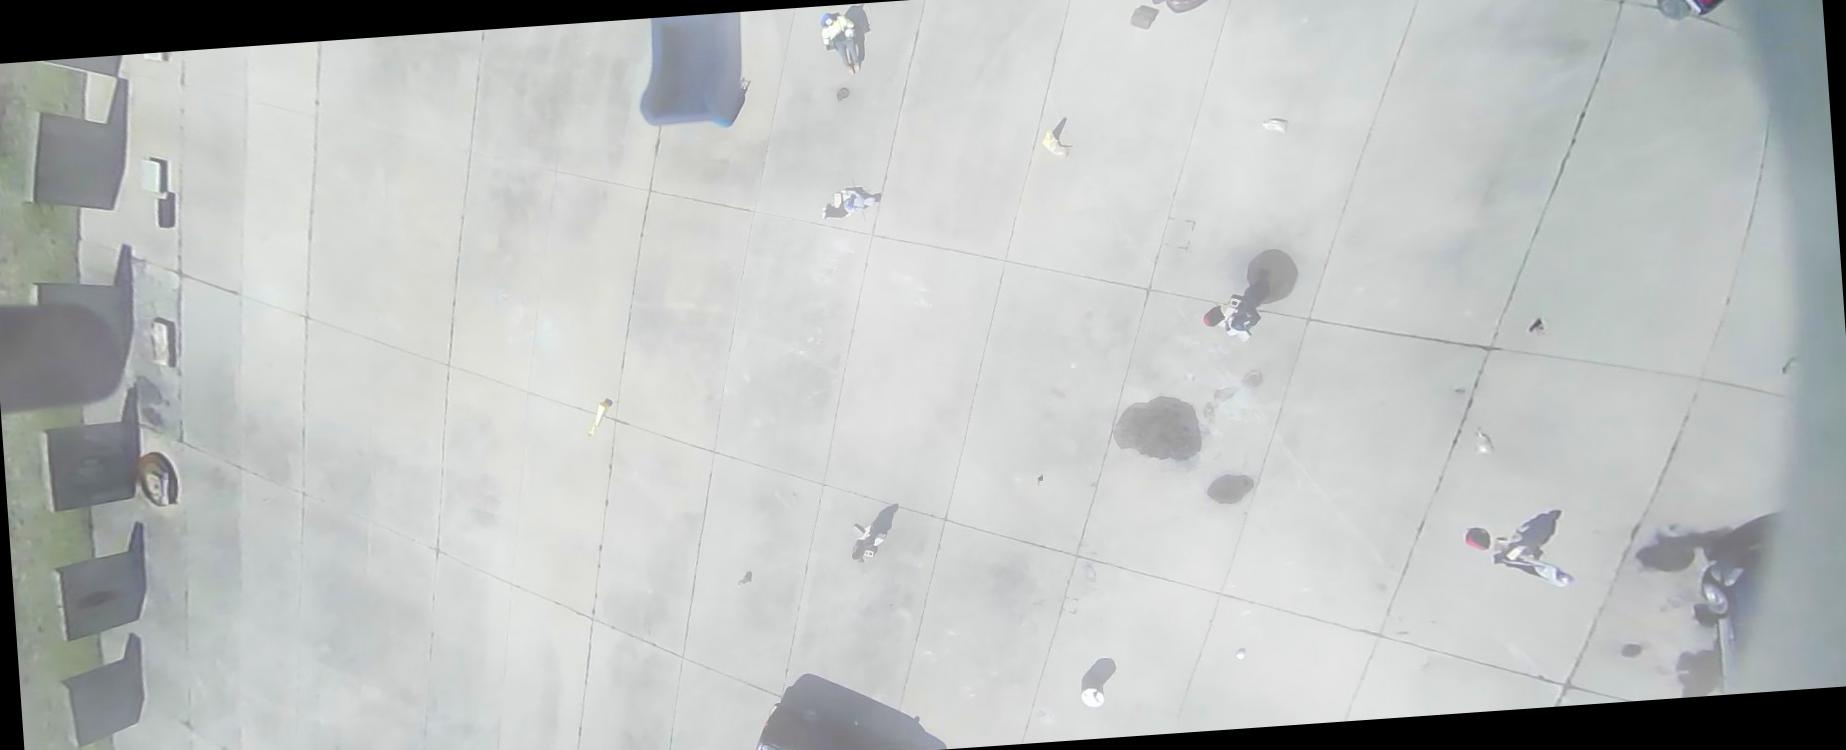vehicle: (1696, 540, 1788, 695), (746, 693, 912, 749), (1631, 0, 1744, 25), (1150, 0, 1240, 16)
